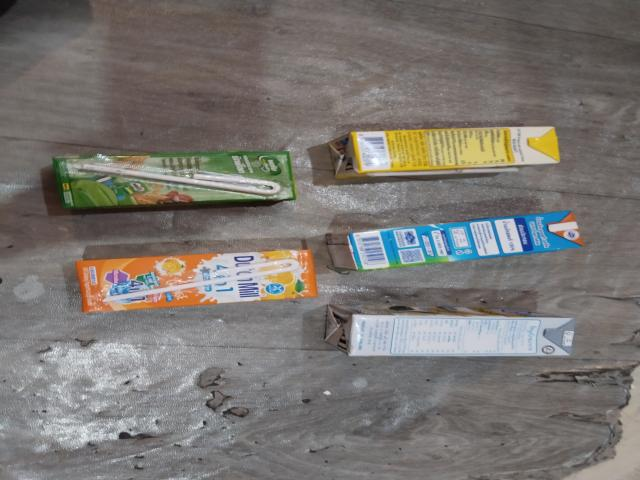drink_box: (325, 296, 602, 362), (40, 150, 294, 212), (318, 214, 602, 268), (75, 248, 318, 309), (324, 128, 584, 180)
